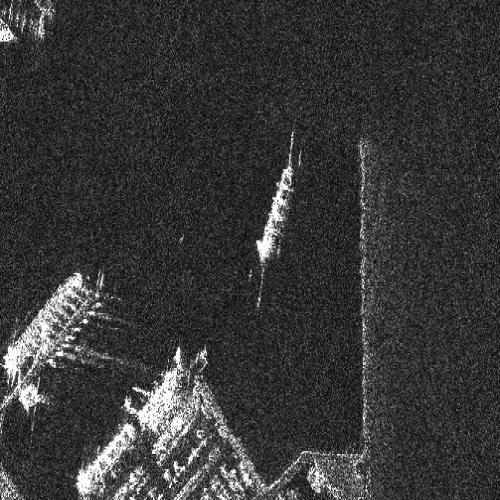ship: (2, 272, 83, 375), (75, 424, 136, 499), (254, 163, 292, 264)
